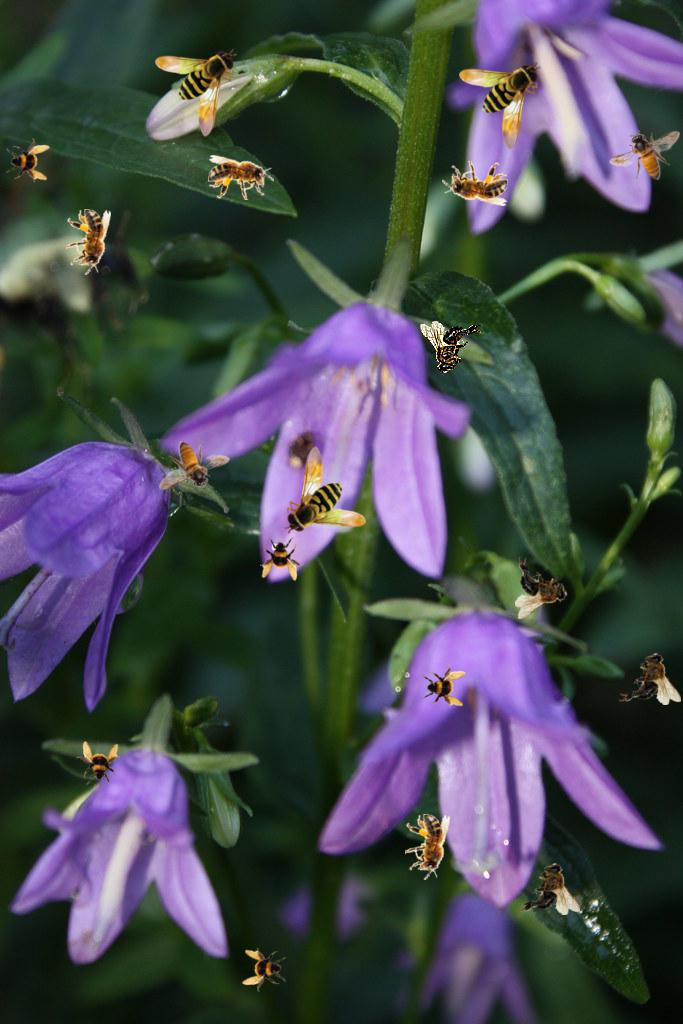Bee: (155, 49, 237, 137), (284, 446, 366, 534), (459, 62, 541, 150), (609, 130, 680, 180), (159, 441, 230, 491), (619, 652, 681, 705), (518, 862, 580, 915), (515, 557, 568, 619), (420, 321, 482, 374), (442, 161, 508, 206), (405, 814, 450, 880), (66, 209, 111, 275), (208, 155, 274, 200), (6, 138, 50, 182), (422, 664, 466, 708), (242, 948, 286, 992), (76, 741, 120, 785), (260, 537, 304, 581)
